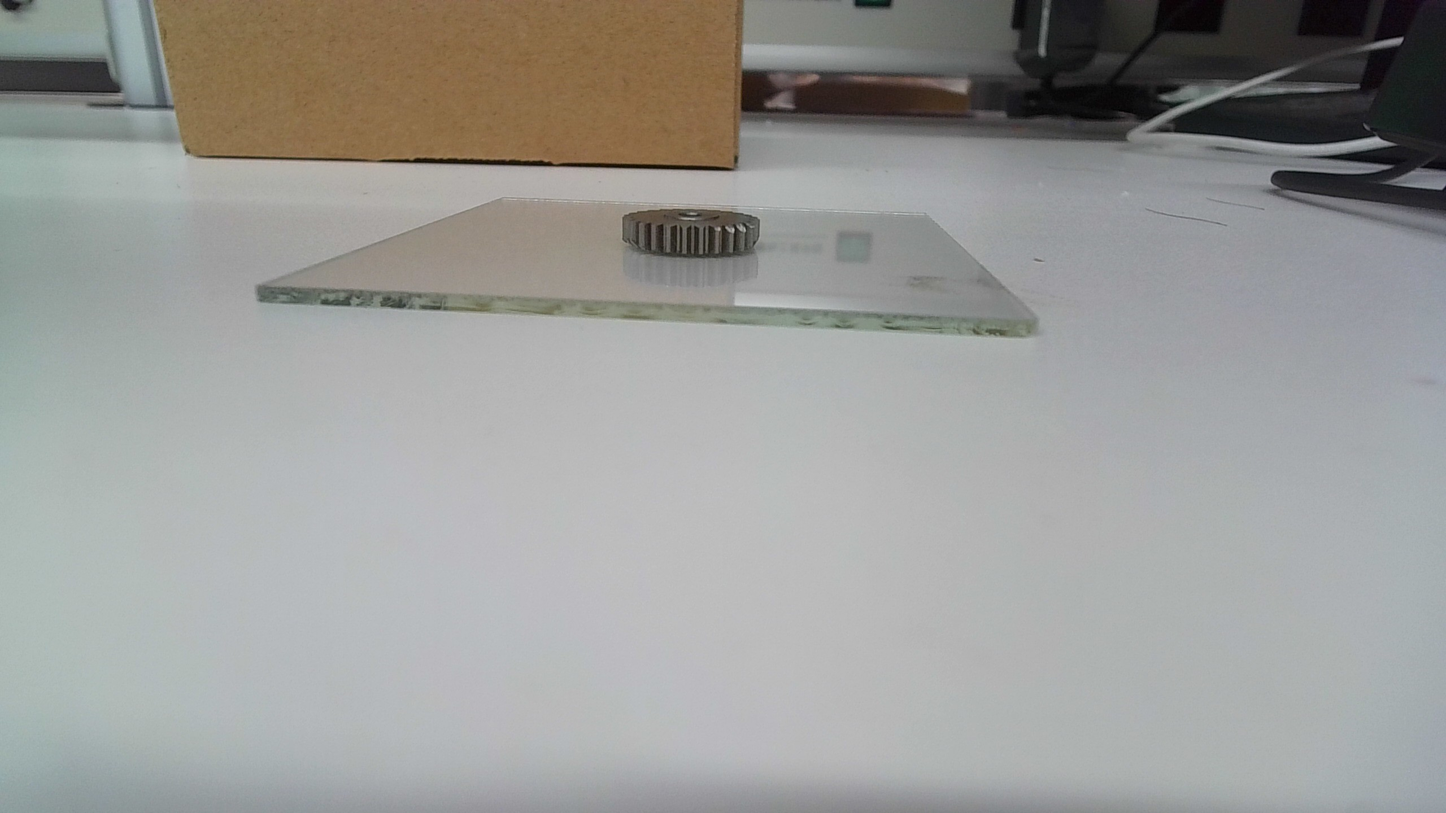gear: (621, 207, 763, 259)
